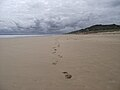human_footprint: (62, 70, 72, 82), (58, 52, 67, 62), (52, 58, 60, 68), (52, 48, 59, 54)
